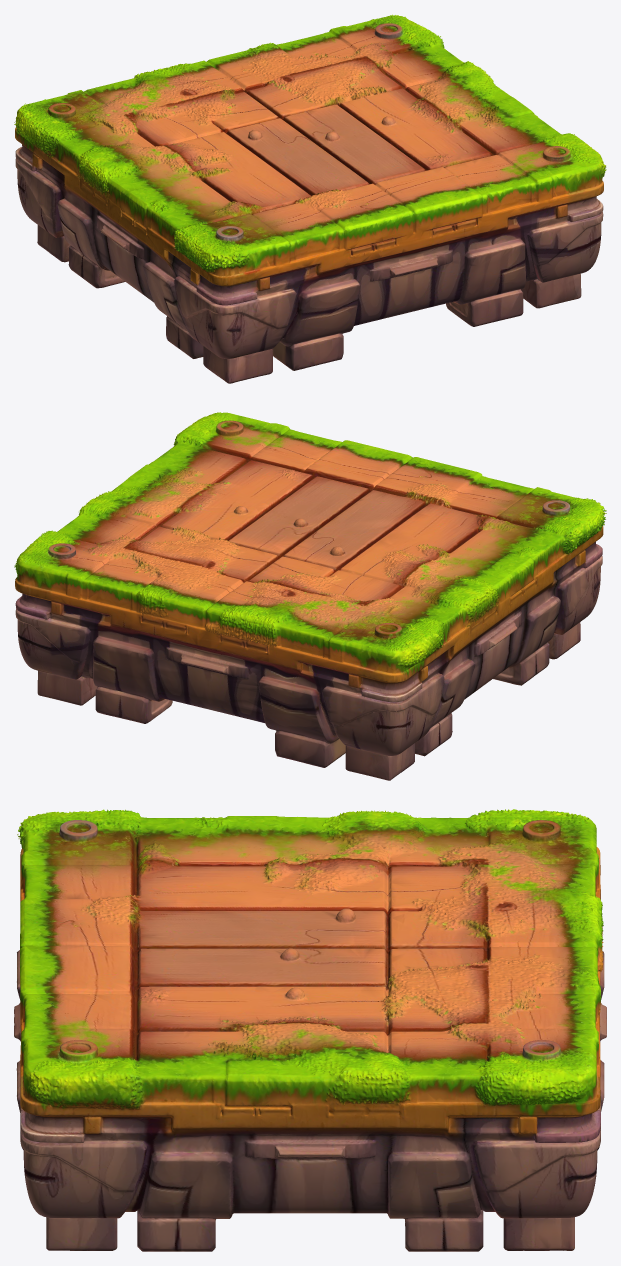
File: floating tile3_final.glb
3 views of the same model, one above another, from view 1: azimuth 30°, elevation 25°; view 2: azimuth 150°, elevation 25°; view 3: azimuth 270°, elevation 25° (orthographic). The views are drawn at different scales.
Bounding box in the file's own units: 1.9 × 0.6393 × 1.75.
1 material, 1 textured.
